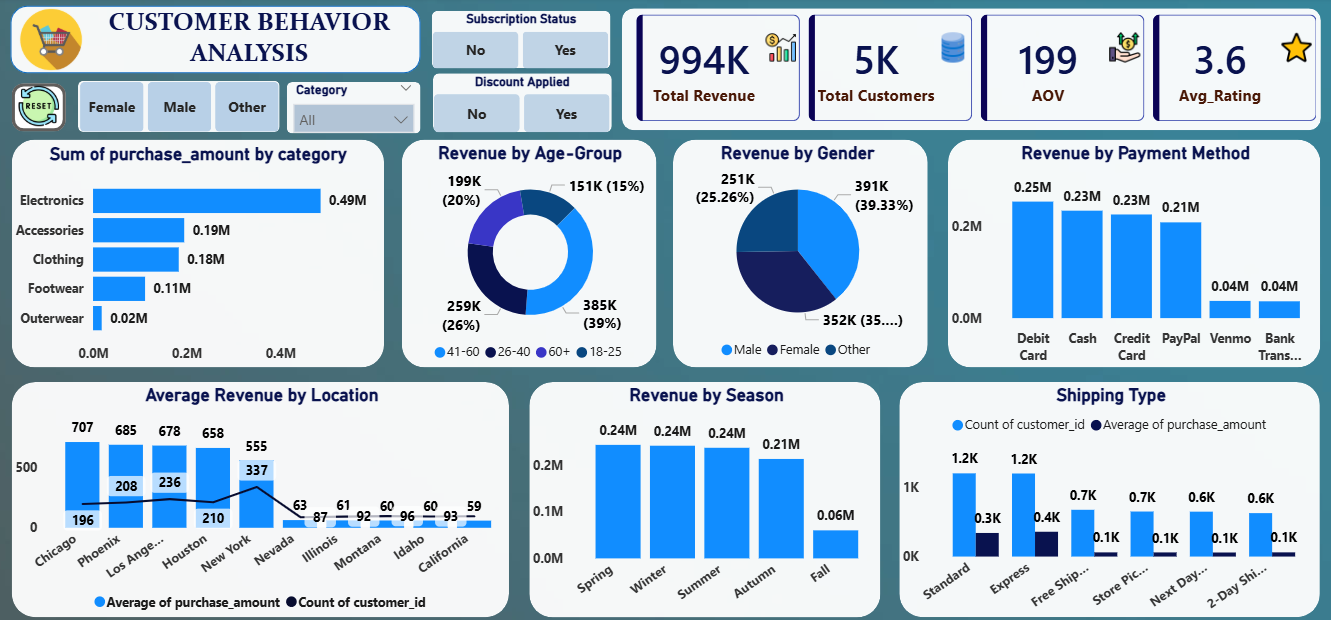

The page's visual inventory and layout, read from the dashboard file:
{"tool":"powerbi","page":{"name":"Customer Analysis Revenue","canvas":[1265,595],"ordinal":0},"visuals":[{"type":"shape","box":[591.5,10.1,662.5,115.7],"z":0},{"type":"shape","box":[503.2,364.2,332.8,223.2],"z":1000},{"type":"shape","box":[12.6,135.6,352.8,216],"z":2000},{"type":"cardVisual","fields":{"Data":["public customer.Total Revenue","public customer.Total Customers","public customer.AOV","public customer.Avg_Review_Rating"]},"box":[604.6,17.1,648.8,101.2],"z":3000},{"type":"shape","box":[640.1,135.6,241.3,216],"z":4000},{"type":"pieChart","title":"Revenue by Gender","fields":{"Category":["public customer.gender"],"Y":["Sum(public customer.purchase_amount)"]},"box":[640.2,135.5,241,216.7],"z":5000},{"type":"clusteredBarChart","fields":{"Category":["public customer.category"],"Y":["Sum(public customer.purchase_amount)"]},"box":[12.2,136,353.1,216.1],"z":6000},{"type":"shape","box":[382.7,135.6,241.3,216],"z":7000},{"type":"clusteredColumnChart","title":"Revenue by Season","fields":{"Category":["public customer.season"],"Y":["Sum(public customer.purchase_amount)"]},"box":[503.3,364.3,333.3,222.9],"z":8000},{"type":"shape","box":[853.8,364.3,398.8,222.9],"z":9000},{"type":"shape","box":[12.6,364.3,471.2,222.9],"z":10000},{"type":"clusteredColumnChart","title":"Shipping Type","fields":{"Category":["public customer.shipping_type"],"Y":["CountNonNull(public customer.customer_id)","Avg(public customer.purchase_amount)"]},"box":[854.3,364.2,398.7,223.2],"z":11000},{"type":"shape","box":[410.9,13.2,169.4,54.8],"z":12000},{"type":"donutChart","title":"Revenue by Age-Group","fields":{"Category":["public customer.age (groups)"],"Y":["Sum(public customer.purchase_amount)"]},"box":[382.7,135.6,241.3,216],"z":13000},{"type":"shape","box":[899.8,135.6,352.8,216],"z":14000},{"type":"shape","box":[12.2,8.1,388.6,63.9],"z":15000},{"type":"lineClusteredColumnComboChart","title":"Average Revenue by Location","fields":{"Category":["public customer.location"],"Y":["Avg(public customer.purchase_amount)"],"Y2":["CountNonNull(public customer.customer_id)"]},"box":[12.6,364.3,471.2,222.9],"z":16000},{"type":"clusteredColumnChart","title":"Revenue by Payment Method","fields":{"Category":["public customer.payment_method"],"Y":["Sum(public customer.purchase_amount)"]},"box":[899.8,135.6,352.8,216],"z":17000},{"type":"textbox","box":[76.1,8.1,324.7,63.9],"z":18000},{"type":"shape","box":[75.6,79.8,191.1,48.5],"z":19000},{"type":"shape","box":[411.9,72,169.4,55.8],"z":20000},{"type":"shape","box":[273.9,80.2,126.8,48.7],"z":21000},{"type":"slicer","fields":{"Values":["public customer.category"]},"box":[273.9,80.2,126.8,47.7],"z":22000},{"type":"advancedSlicerVisual","title":"Discount Applied","fields":{"Values":["public customer.discount_applied"]},"box":[411.9,72,169.4,56.8],"z":23000},{"type":"advancedSlicerVisual","title":"Subscription Status","fields":{"Values":["public customer.subscription_status"]},"box":[410.6,12.8,169.7,55.6],"z":24000},{"type":"hundredPercentStackedBarChart","fields":{"Category":["public customer.gender"]},"box":[75.6,81.3,191.1,47.1],"z":25000},{"type":"actionButton","box":[12.8,81.3,51.3,45.6],"z":26000},{"type":"image","box":[12.8,84.1,51.3,38.5],"z":27000},{"type":"image","box":[11.8,8.3,77,64],"z":28000},{"type":"advancedSlicerVisual","fields":{"Values":["public customer.gender"]},"box":[77,81,190.4,47.6],"z":29000}]}

Visuals, with their boxes in screenshot pixels (x1, y1, x2, y2), scaled from the page's 1265x595 canvas onto the 1331x620 screenshot:
shape: l=622, t=11, r=1319, b=131
shape: l=529, t=380, r=880, b=612
shape: l=13, t=141, r=384, b=366
cardVisual - public customer.Total Revenue x public customer.Total Customers: l=636, t=18, r=1319, b=123
shape: l=673, t=141, r=927, b=366
"Revenue by Gender" pieChart: l=674, t=141, r=927, b=367
clusteredBarChart - public customer.category x Sum(public customer.purchase_amount): l=13, t=142, r=384, b=367
shape: l=403, t=141, r=657, b=366
"Revenue by Season" clusteredColumnChart: l=530, t=380, r=880, b=612
shape: l=898, t=380, r=1318, b=612
shape: l=13, t=380, r=509, b=612
"Shipping Type" clusteredColumnChart: l=899, t=380, r=1318, b=612
shape: l=432, t=14, r=611, b=71
"Revenue by Age-Group" donutChart: l=403, t=141, r=657, b=366
shape: l=947, t=141, r=1318, b=366
shape: l=13, t=8, r=422, b=75
"Average Revenue by Location" lineClusteredColumnComboChart: l=13, t=380, r=509, b=612
"Revenue by Payment Method" clusteredColumnChart: l=947, t=141, r=1318, b=366
textbox: l=80, t=8, r=422, b=75
shape: l=80, t=83, r=281, b=134
shape: l=433, t=75, r=612, b=133
shape: l=288, t=84, r=422, b=134
slicer - public customer.category: l=288, t=84, r=422, b=133
"Discount Applied" advancedSlicerVisual: l=433, t=75, r=612, b=134
"Subscription Status" advancedSlicerVisual: l=432, t=13, r=611, b=71
hundredPercentStackedBarChart - public customer.gender: l=80, t=85, r=281, b=134
actionButton: l=13, t=85, r=67, b=132
image: l=13, t=88, r=67, b=128
image: l=12, t=9, r=93, b=75
advancedSlicerVisual - public customer.gender: l=81, t=84, r=281, b=134
